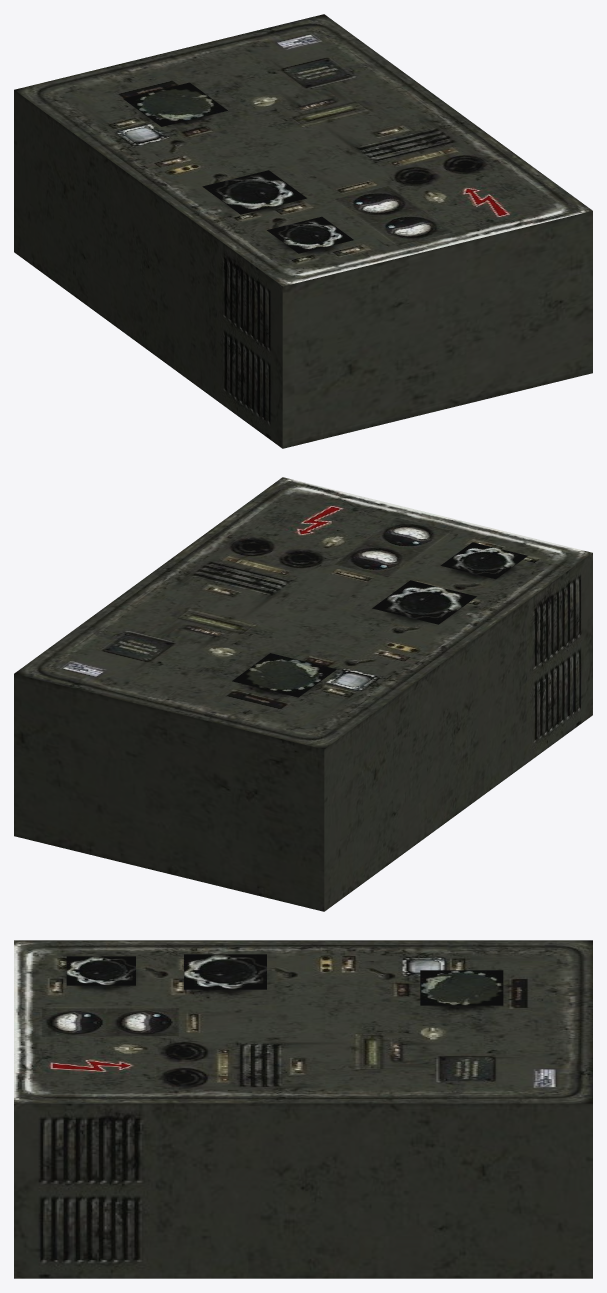
Rendered from military_german_radio1_green.glb.
3 views of the same model, one above another, from view 1: azimuth 30°, elevation 25°; view 2: azimuth 150°, elevation 25°; view 3: azimuth 270°, elevation 25° (orthographic). The views are drawn at different scales.
Size of the model in its own units: 24.43 by 12.59 by 36.64.
Materials: 3 (3 with a texture image).
